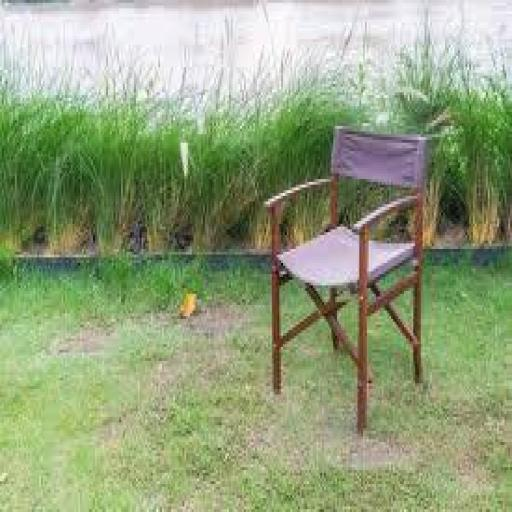chair: (260, 112, 436, 439)
